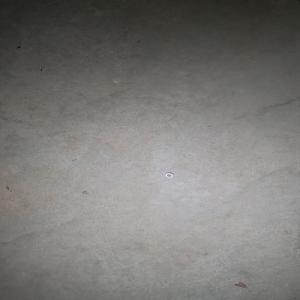Nut: (164, 171, 173, 177)
